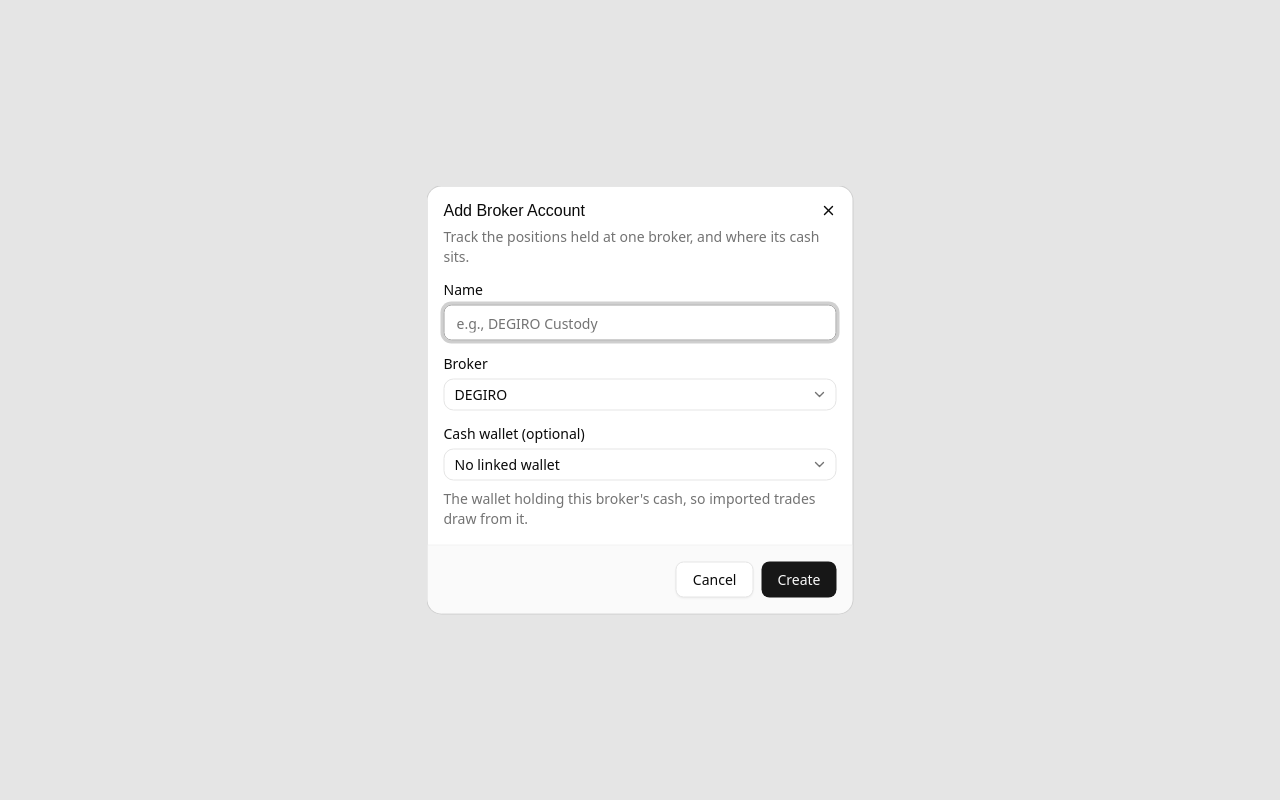
Test: BrokerAccountDialog › reports a missing name instead of saving
Click the button "Create": (799, 580) [761,562,836,598]
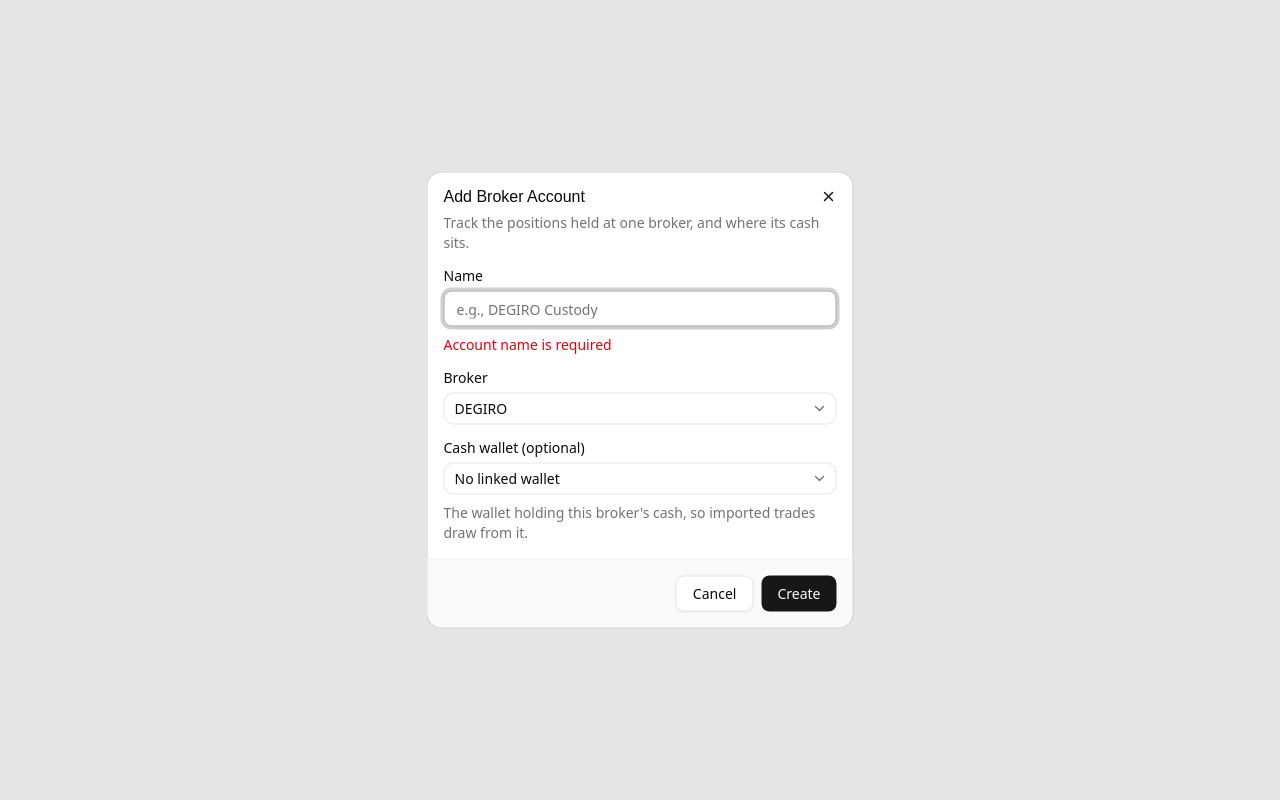
Check: the text "Account name is required" is shown, box [444,334,612,354]
